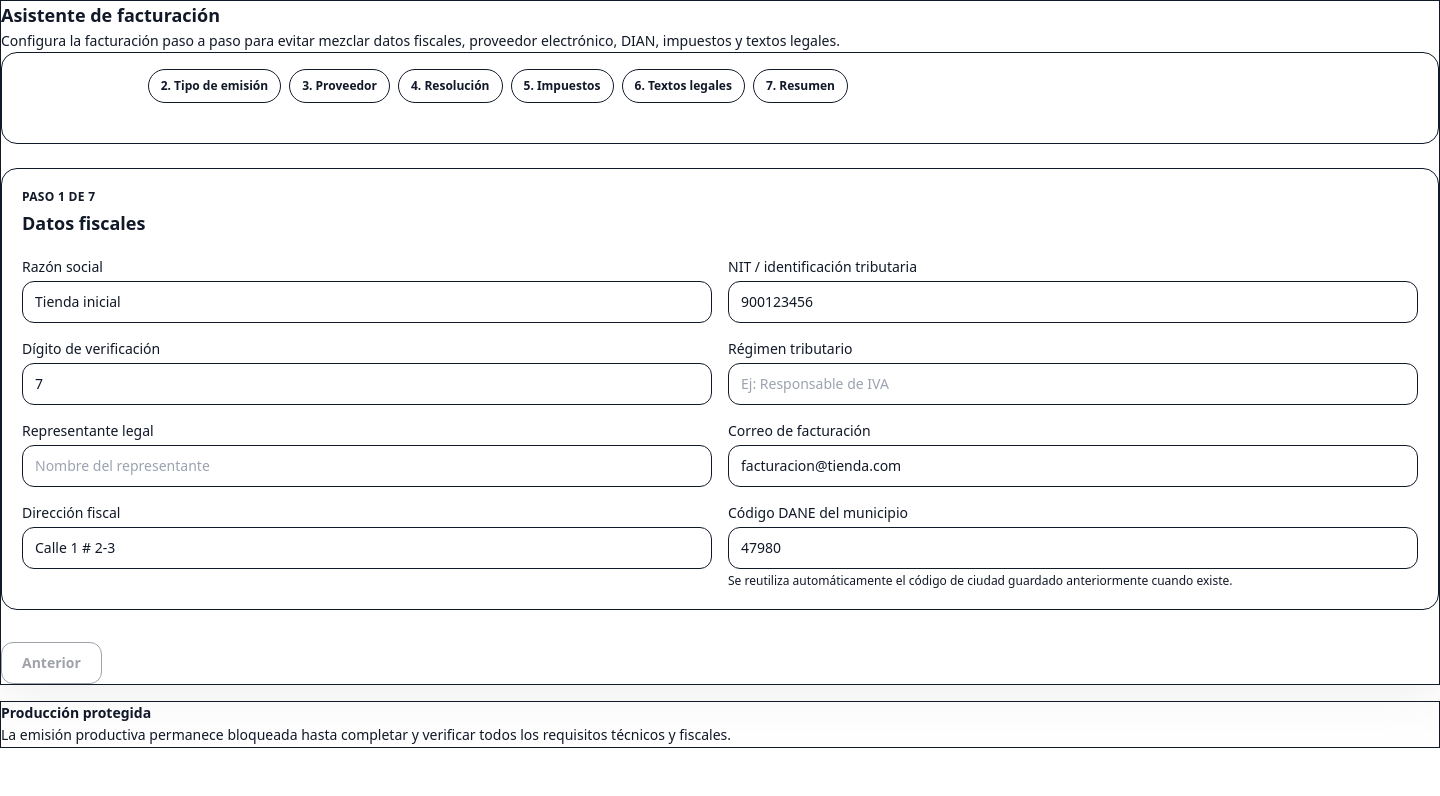
Test: FacturacionSection › no avanza ni guarda cuando la etapa actual tiene errores
Clear the field showing "Tienda inicial": x=367, y=302 [22, 281, 712, 323]
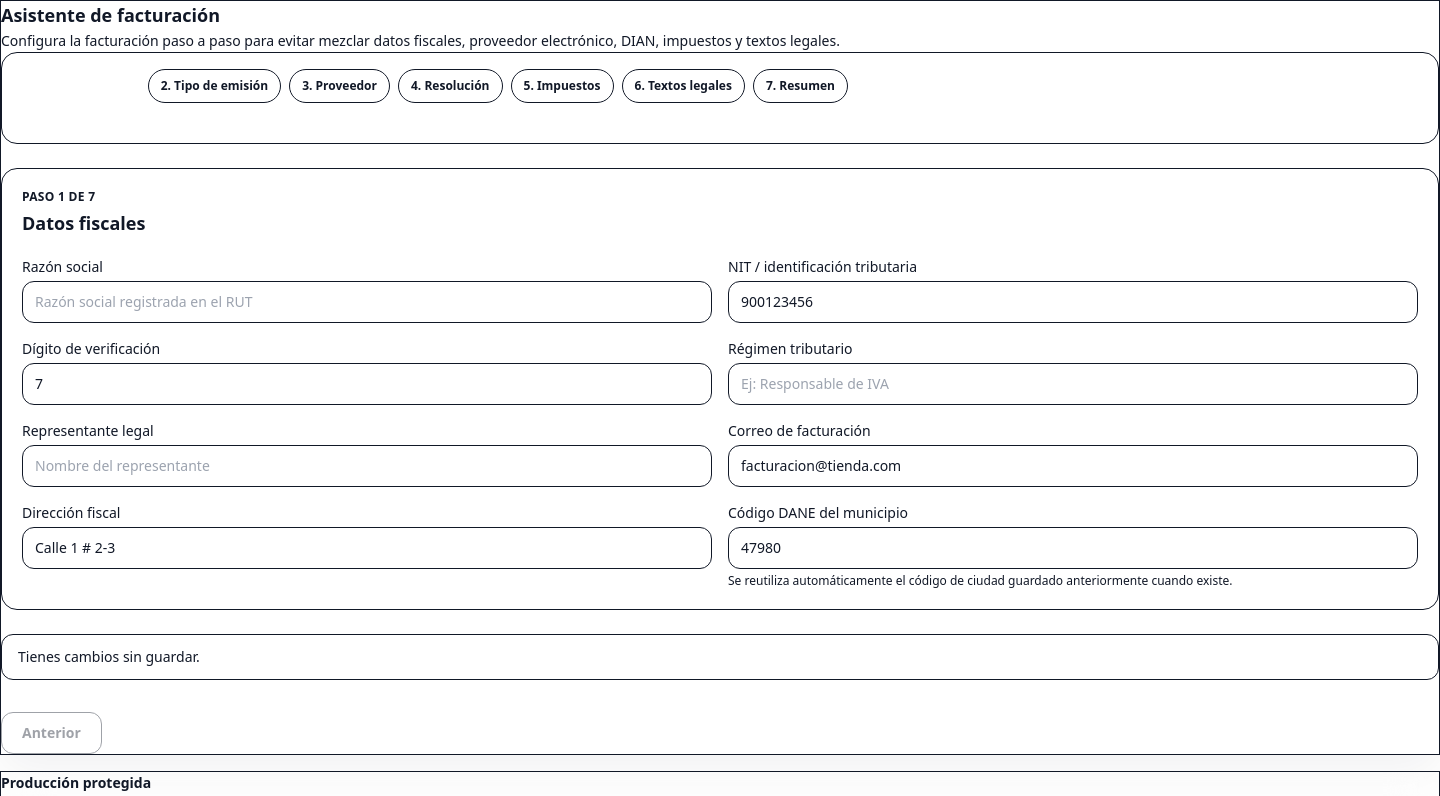
Click the button "Siguiente": x=1385, y=733 [1331, 712, 1439, 754]
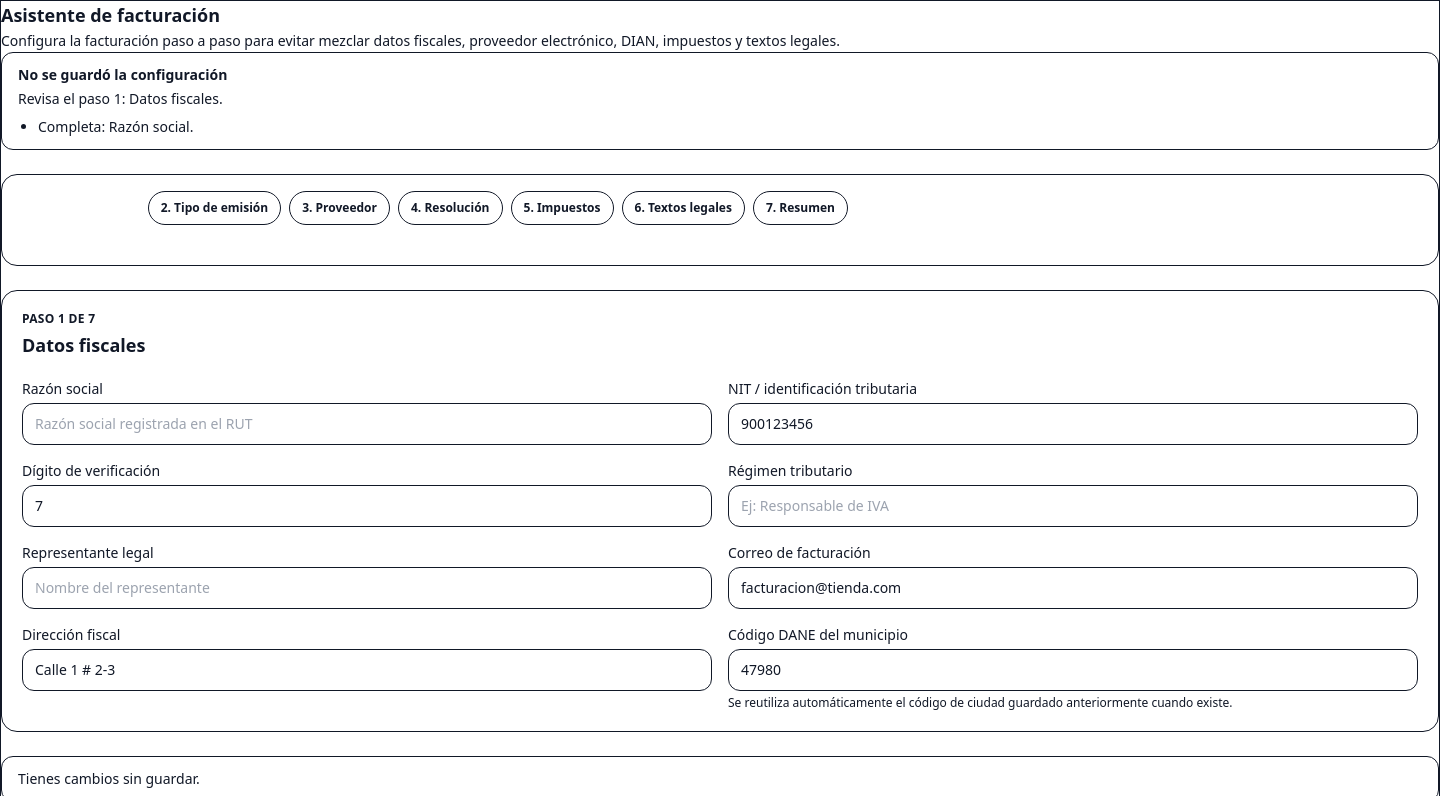
Expected: the text "Paso 1 de 7" is shown, [22, 310, 95, 327]
Expected: the text "Revisa el paso 1: Datos fiscales." is shown, [18, 89, 223, 108]
Expected: the list item "Completa: Razón social." is shown, [38, 117, 194, 136]
